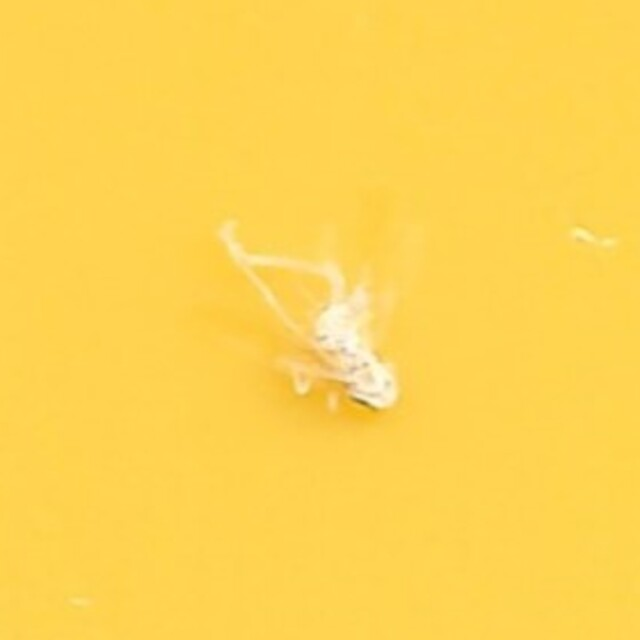Hemiptera: (229, 220, 411, 420)
